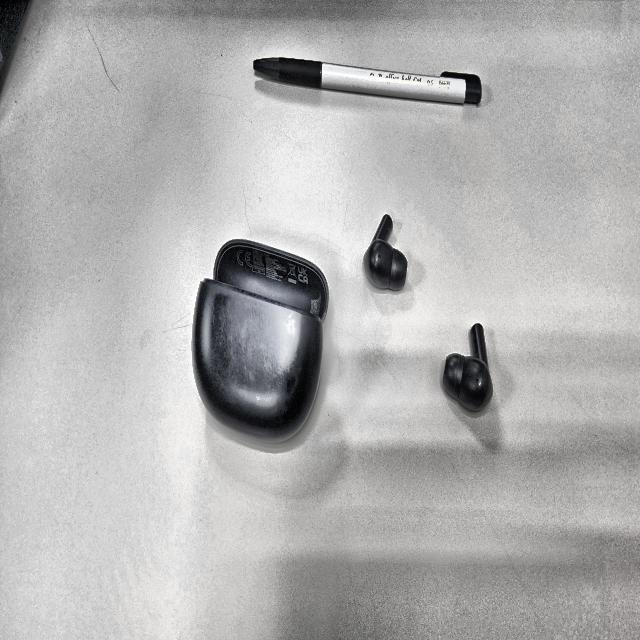Bluetooth headphones: (192, 240, 328, 442), (443, 323, 493, 411), (364, 215, 407, 290)
